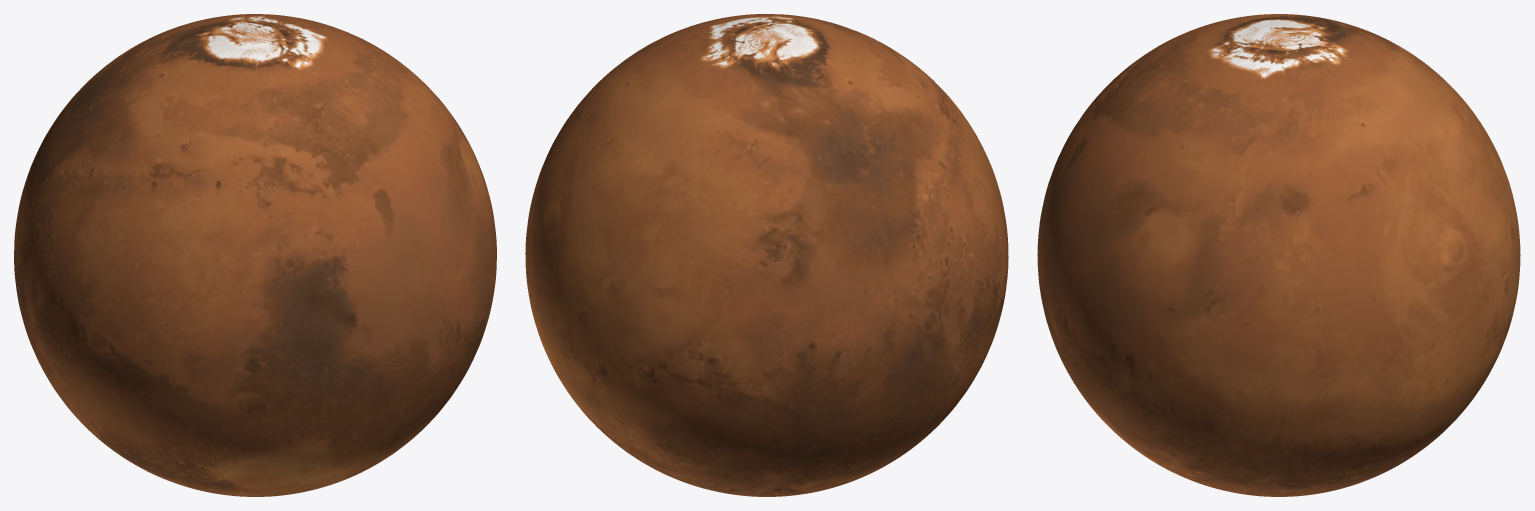
The model's file is mars.glb.
The picture shows the model from 3 angles, left to right: view 1: azimuth 30°, elevation 25°; view 2: azimuth 150°, elevation 25°; view 3: azimuth 270°, elevation 25°; orthographic projection.
Parts seen in each view (by area): view 1: pSphere1.1; view 2: pSphere1.1; view 3: pSphere1.1.
Part boxes in pixels (x1=…): pSphere1.1: x1=14, y1=14, x2=496, y2=496; pSphere1.1: x1=525, y1=14, x2=1008, y2=496; pSphere1.1: x1=1037, y1=14, x2=1520, y2=496.
Size of the model in its own units: 0.2 by 0.2 by 0.2.
Materials: 1 (1 with a texture image).
